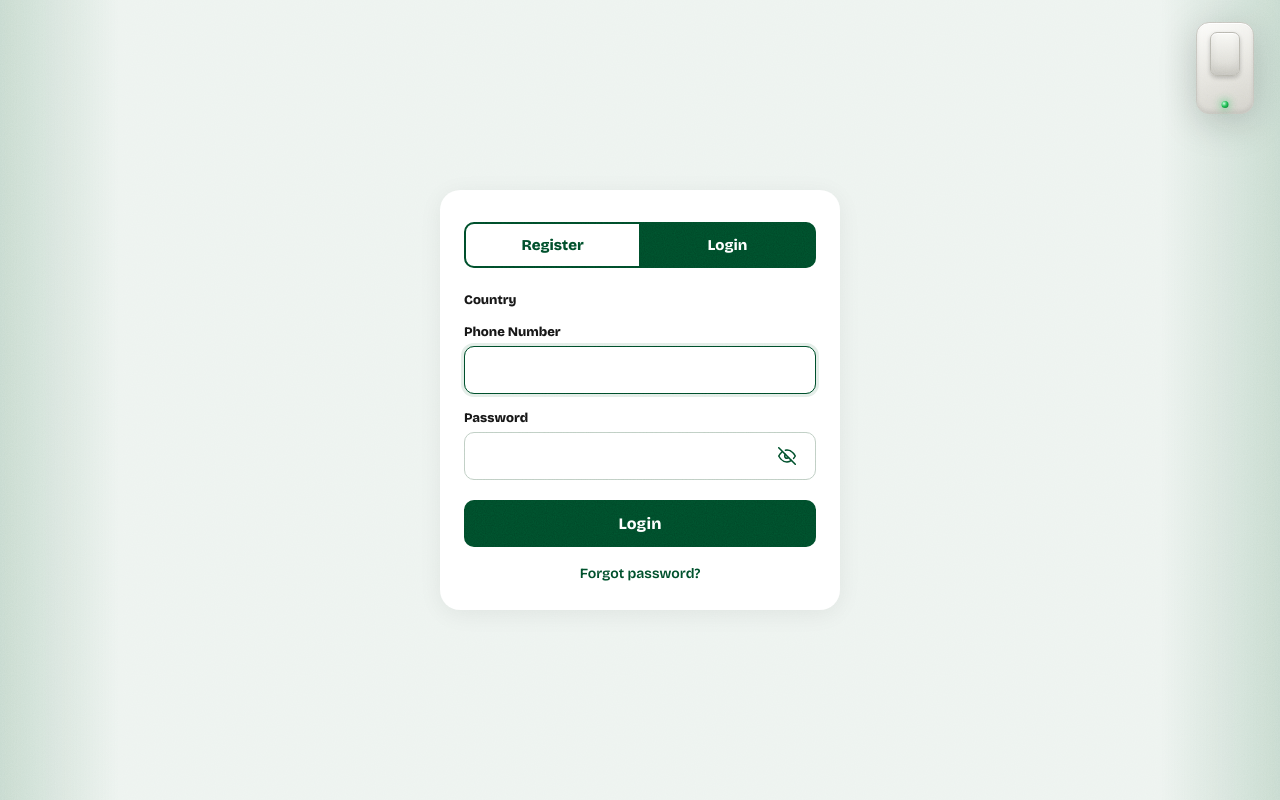
Test: LoginPage "No login" kill switch › flips the shared flag from the login page and swaps in the down panel
Check: the link "Forgot password?" is shown, box [580,565,700,582]
Click the button named "pause all logins": point(1225, 68) [1196,22,1254,114]
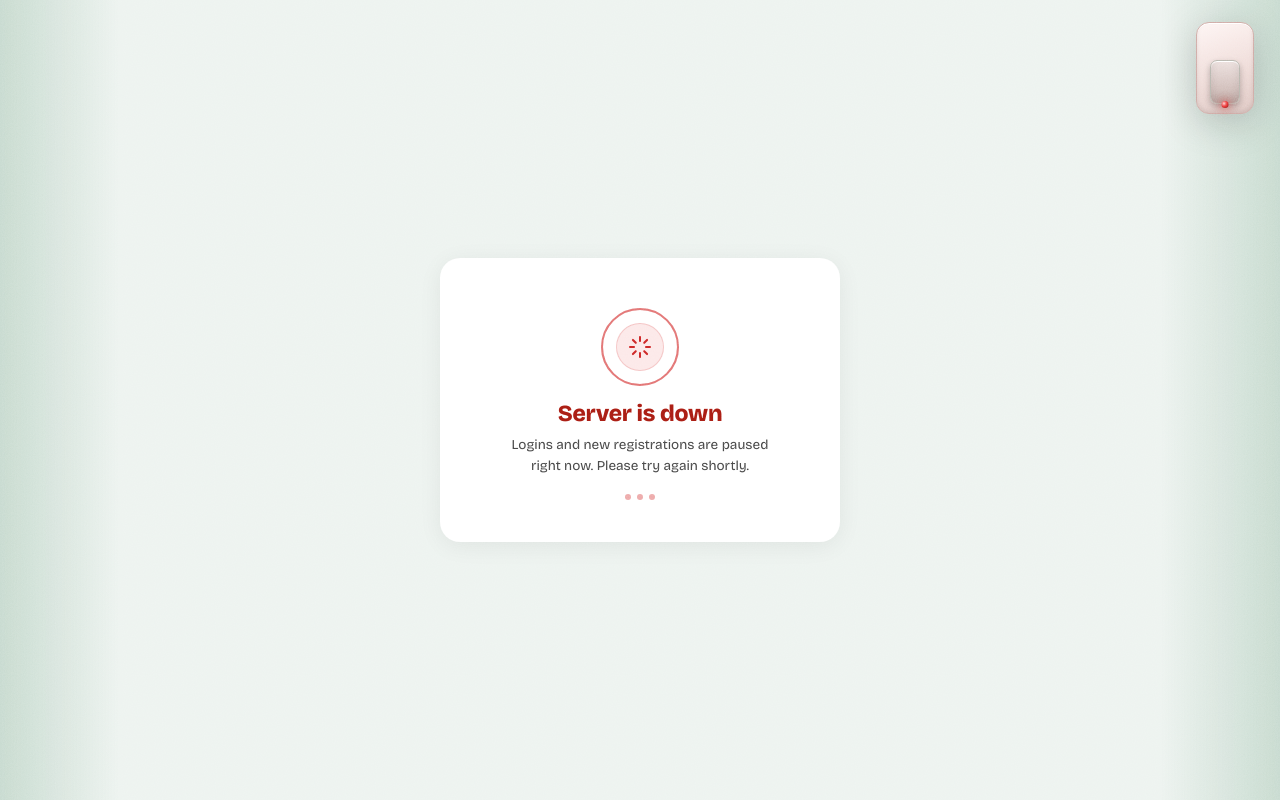
Check: the heading "Server is down" is shown, box [558,400,722,427]
